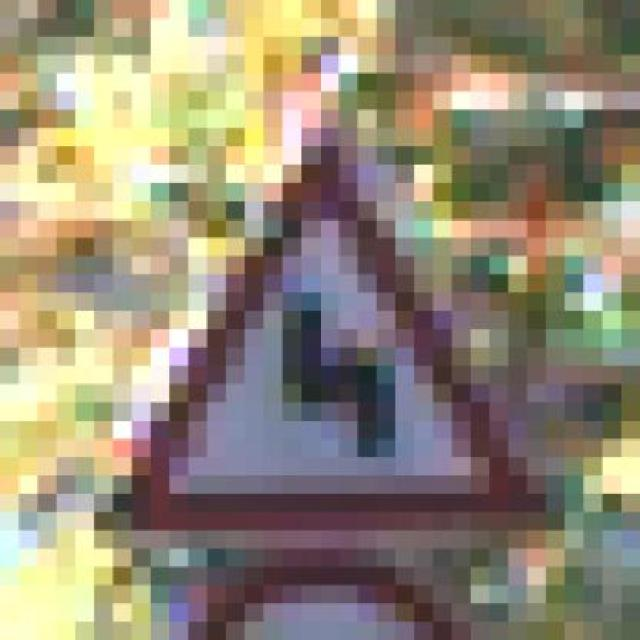Left Zig Zag Traffic: (94, 91, 546, 567)
